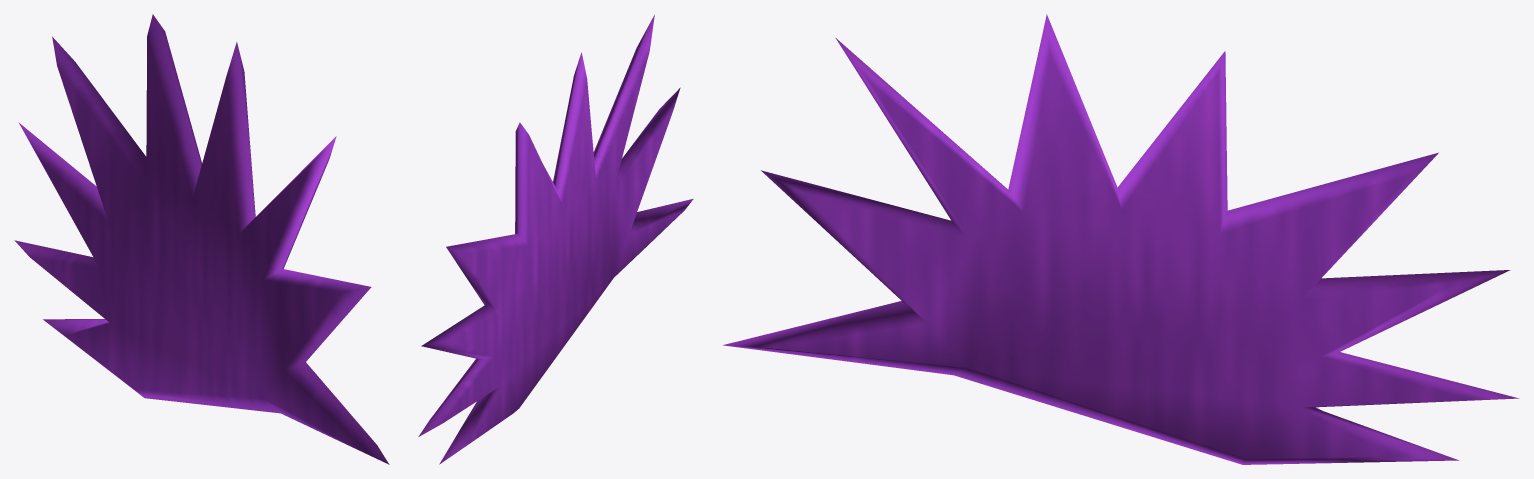
The model's file is buzzsaw.glb.
3 renders of one model, left to right at view 1: azimuth 30°, elevation 25°; view 2: azimuth 150°, elevation 25°; view 3: azimuth 270°, elevation 25°, orthographic. The views are drawn at different scales.
Visible parts, largest first — view 1: Buzzsaw; view 2: Buzzsaw; view 3: Buzzsaw.
Part boxes in pixels (left/top/right/bottom): Buzzsaw: left=14, top=14, right=389, bottom=464; Buzzsaw: left=418, top=14, right=693, bottom=464; Buzzsaw: left=723, top=14, right=1519, bottom=464.
Bounding box in the file's own units: 0.0152 × 0.3415 × 0.5475.
Materials: 1 (1 with a texture image).
